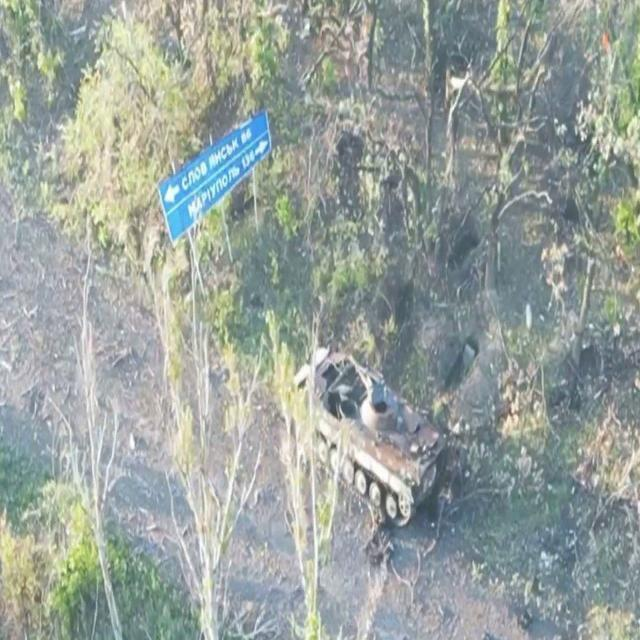AIFV: (294, 347, 450, 527)
